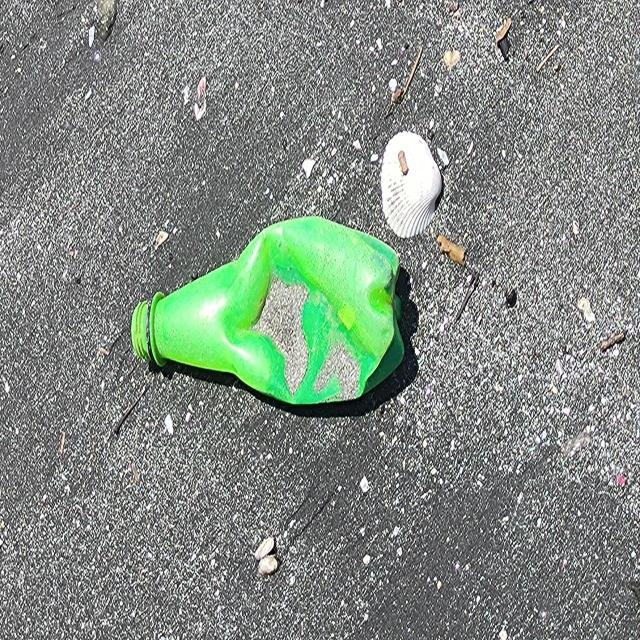plastic_waste: (132, 216, 405, 406)
